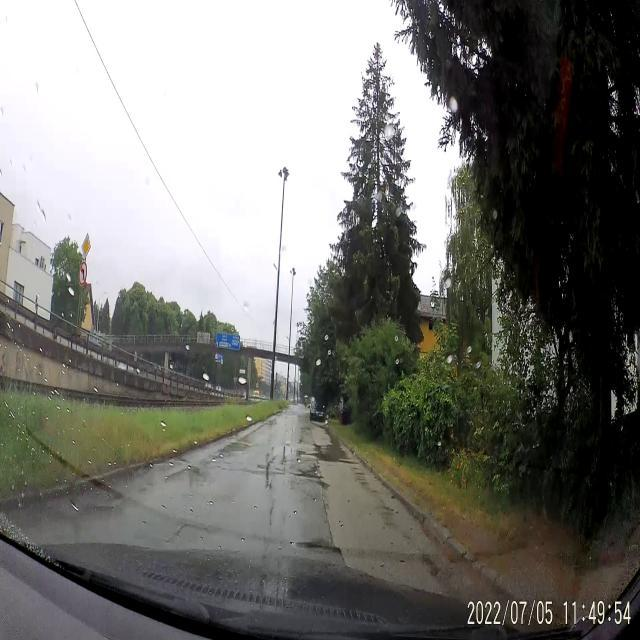Pothole: (290, 530, 347, 560), (164, 462, 203, 488)
